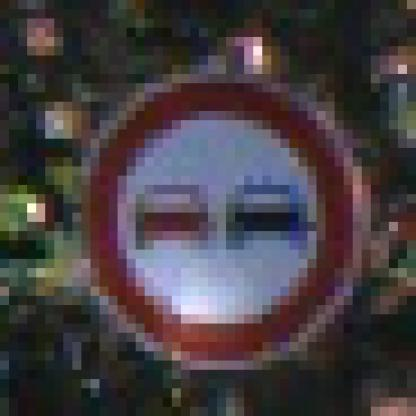No Overtaking: (55, 56, 363, 371)
